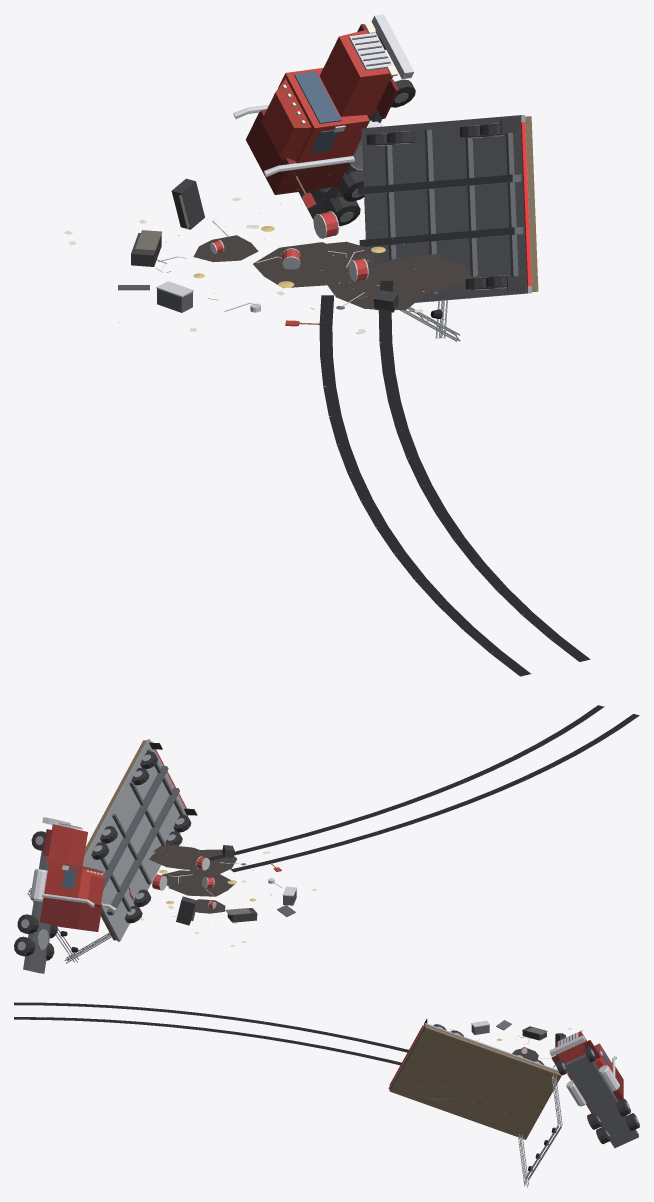
The model's file is Wreck.obj.
3 renders of one model, top to bottom at view 1: azimuth 30°, elevation 25°; view 2: azimuth 150°, elevation 25°; view 3: azimuth 270°, elevation 25°, orthographic. The views are drawn at different scales.
Visible parts, largest first — view 1: Wreck; view 2: Wreck; view 3: Wreck.
Boxes of the visible parts, bbox=[...] form: Wreck: bbox=[63, 14, 590, 676]; Wreck: bbox=[14, 705, 639, 973]; Wreck: bbox=[14, 1002, 639, 1187].
Size of the model in its own units: 19 by 11.73 by 42.8.
Materials: 1 (1 with a texture image).
